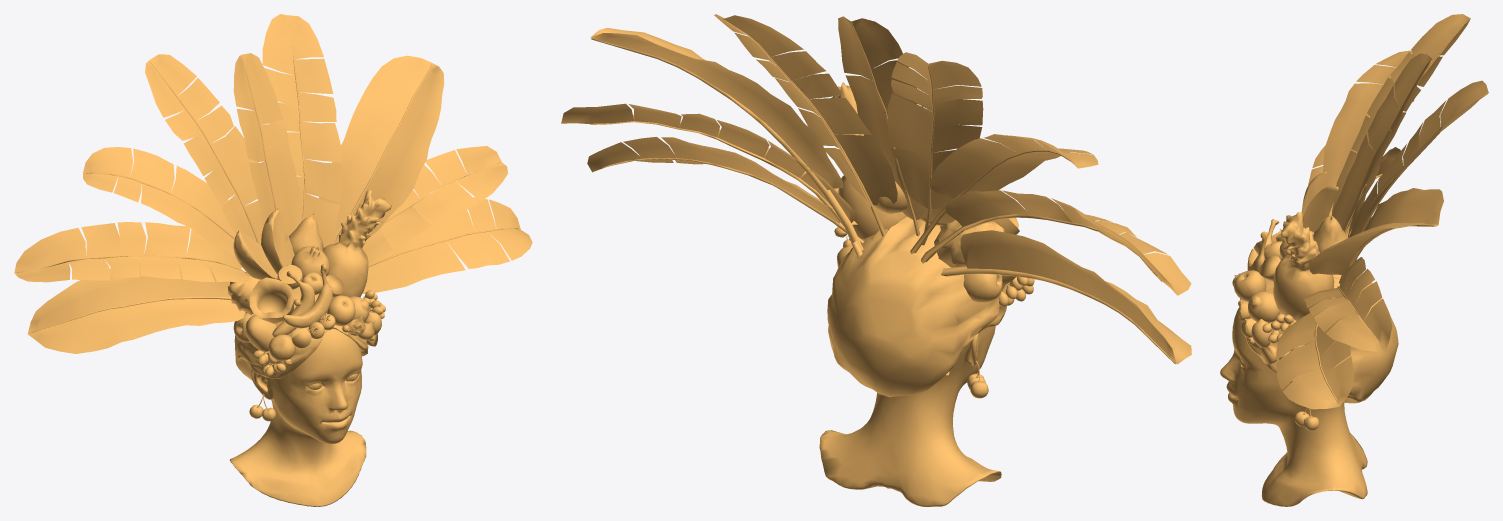
Rendered from website_avatar_fruits_v7.gltf.
The picture shows the model from 3 angles, left to right: view 1: azimuth 30°, elevation 25°; view 2: azimuth 150°, elevation 25°; view 3: azimuth 270°, elevation 25°; orthographic projection. The views are drawn at different scales.
Visible parts, largest first — view 1: BASEFACE, Ban_6_2, Ban_0, Ban_5_2, Ban_1, Ban_3, Ban_8_2, Ban_2, Ban_7_2, Ban_4_2, 80_pineapple, Bandeau_1 (+12 smaller); view 2: Bandeau_1, BASEFACE, Ban_3, Ban_5_2, Ban_6_2, Ban_0, Ban_1, Ban_4_2, Ban_2, Ban_7_2, Ban_8_2, 80_pineapple (+2 smaller); view 3: BASEFACE, Ban_8_2, Ban_7_2, Ban_6_2, Ban_4_2, 80_pineapple, Ban_3, Ban_2, Ban_5_2, Bandeau_1, Box02_1, 72_orange (+7 smaller).
Part boxes in pixels (box(x1,y1,x2,y2)): BASEFACE: box(230, 329, 366, 506); Ban_6_2: box(319, 55, 444, 243); Ban_0: box(27, 254, 245, 353); Ban_5_2: box(262, 14, 342, 247); Ban_1: box(14, 222, 249, 282); Ban_3: box(145, 54, 262, 244); Ban_8_2: box(362, 197, 532, 293); Ban_2: box(83, 147, 235, 255); Ban_7_2: box(330, 146, 507, 264); Ban_4_2: box(233, 53, 302, 235); 80_pineapple: box(322, 190, 391, 297); Bandeau_1: box(234, 286, 368, 380); Bandeau_1: box(827, 216, 1007, 397); BASEFACE: box(819, 326, 1001, 506); Ban_3: box(887, 52, 983, 245); Ban_5_2: box(714, 14, 897, 237); Ban_6_2: box(590, 28, 863, 250); Ban_0: box(941, 230, 1191, 364); Ban_1: box(921, 190, 1191, 295); Ban_4_2: box(838, 16, 934, 236); Ban_2: box(910, 134, 1098, 253); Ban_7_2: box(561, 103, 862, 258); Ban_8_2: box(587, 137, 863, 244); 80_pineapple: box(831, 82, 905, 239); BASEFACE: box(1220, 307, 1367, 506); Ban_8_2: box(1276, 297, 1353, 409); Ban_7_2: box(1304, 257, 1392, 351); Ban_6_2: box(1310, 188, 1443, 274); Ban_4_2: box(1332, 53, 1432, 232); 80_pineapple: box(1273, 212, 1334, 320); Ban_3: box(1331, 14, 1470, 234); Ban_2: box(1323, 50, 1414, 207); Ban_5_2: box(1339, 80, 1488, 283); Bandeau_1: box(1240, 274, 1398, 403); Box02_1: box(1302, 186, 1338, 232); 72_orange: box(1248, 291, 1280, 323).
Bounding box in the file's own units: 444 × 358 × 197.
